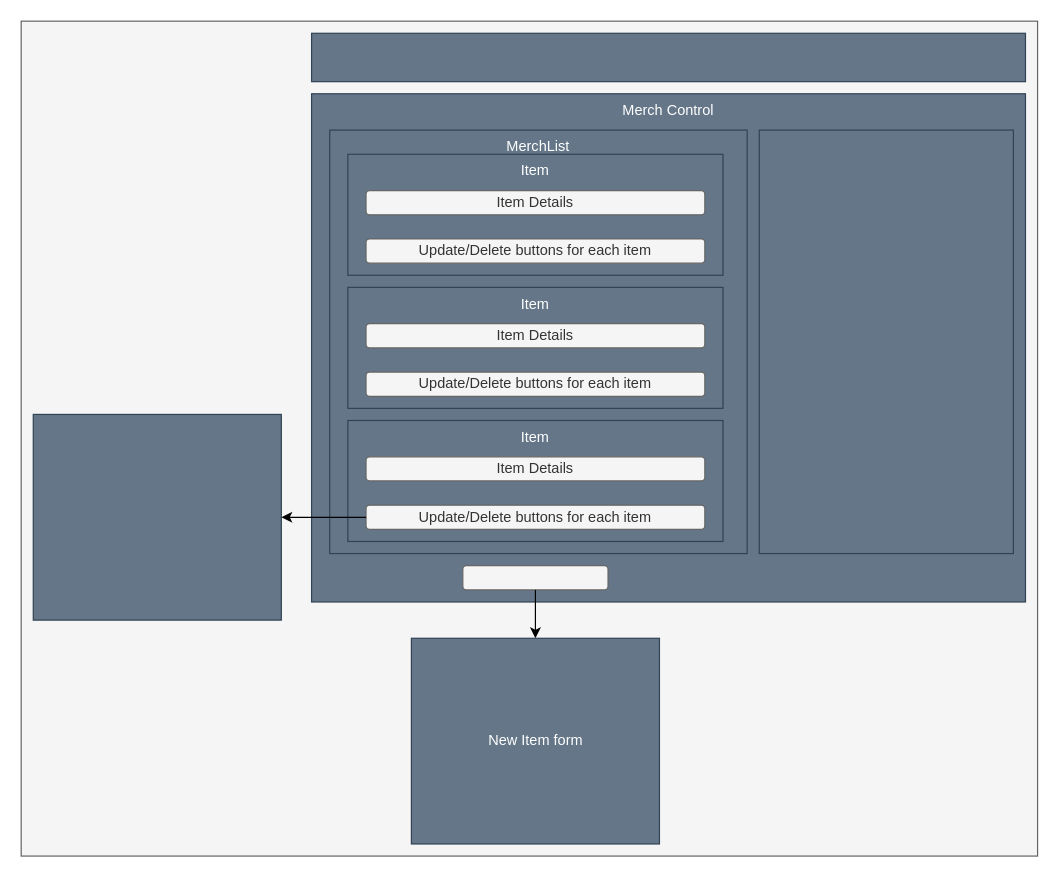
This 1059x877 diagram has some shape labels left out. The centre of each missing label's shape, as x and y in pixels:
"Add Item" belongs at point 535,577.
"Cart" belongs at point 885,341.
"Edit item form" belongs at point 156,516.
"Header" belongs at point 667,57.
